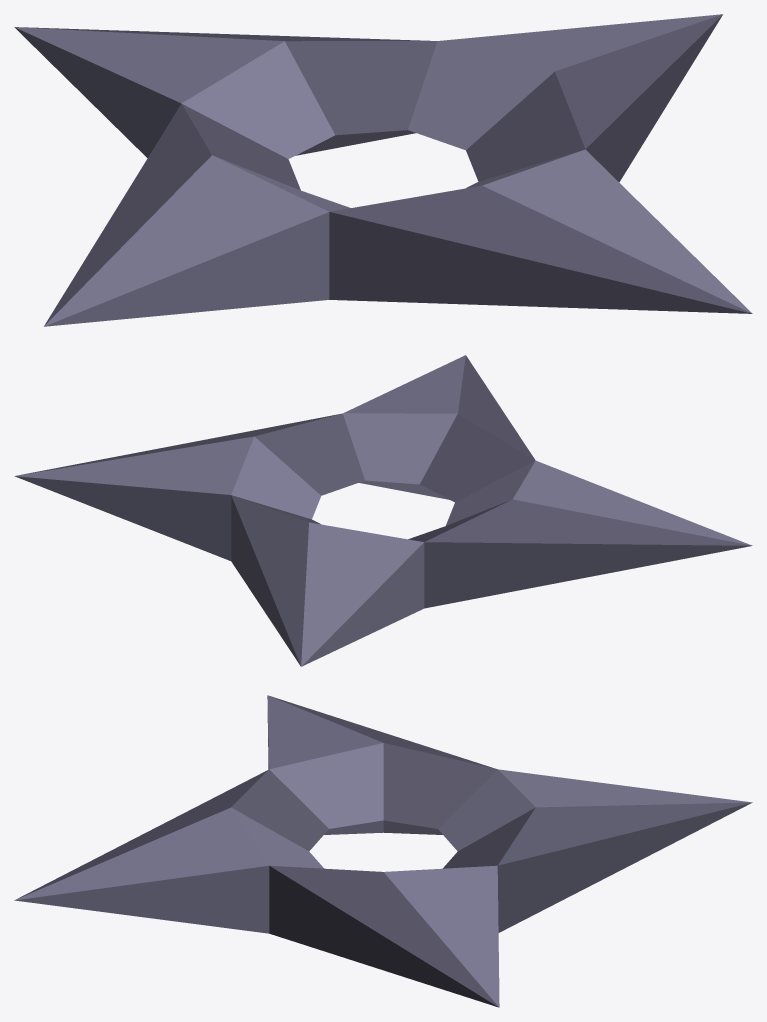
The model's file is Shuriken.fbx.
3 views of the same model, one above another, from view 1: azimuth 30°, elevation 25°; view 2: azimuth 150°, elevation 25°; view 3: azimuth 270°, elevation 25° (orthographic). The views are drawn at different scales.
Visible parts, largest first — view 1: Shuriken; view 2: Shuriken; view 3: Shuriken.
Part boxes in pixels (x1,y1,x2,y2): Shuriken: (14,14,752,326); Shuriken: (14,355,752,666); Shuriken: (14,695,752,1007).
Bounding box in the file's own units: 55.99 × 7.36 × 55.93.
